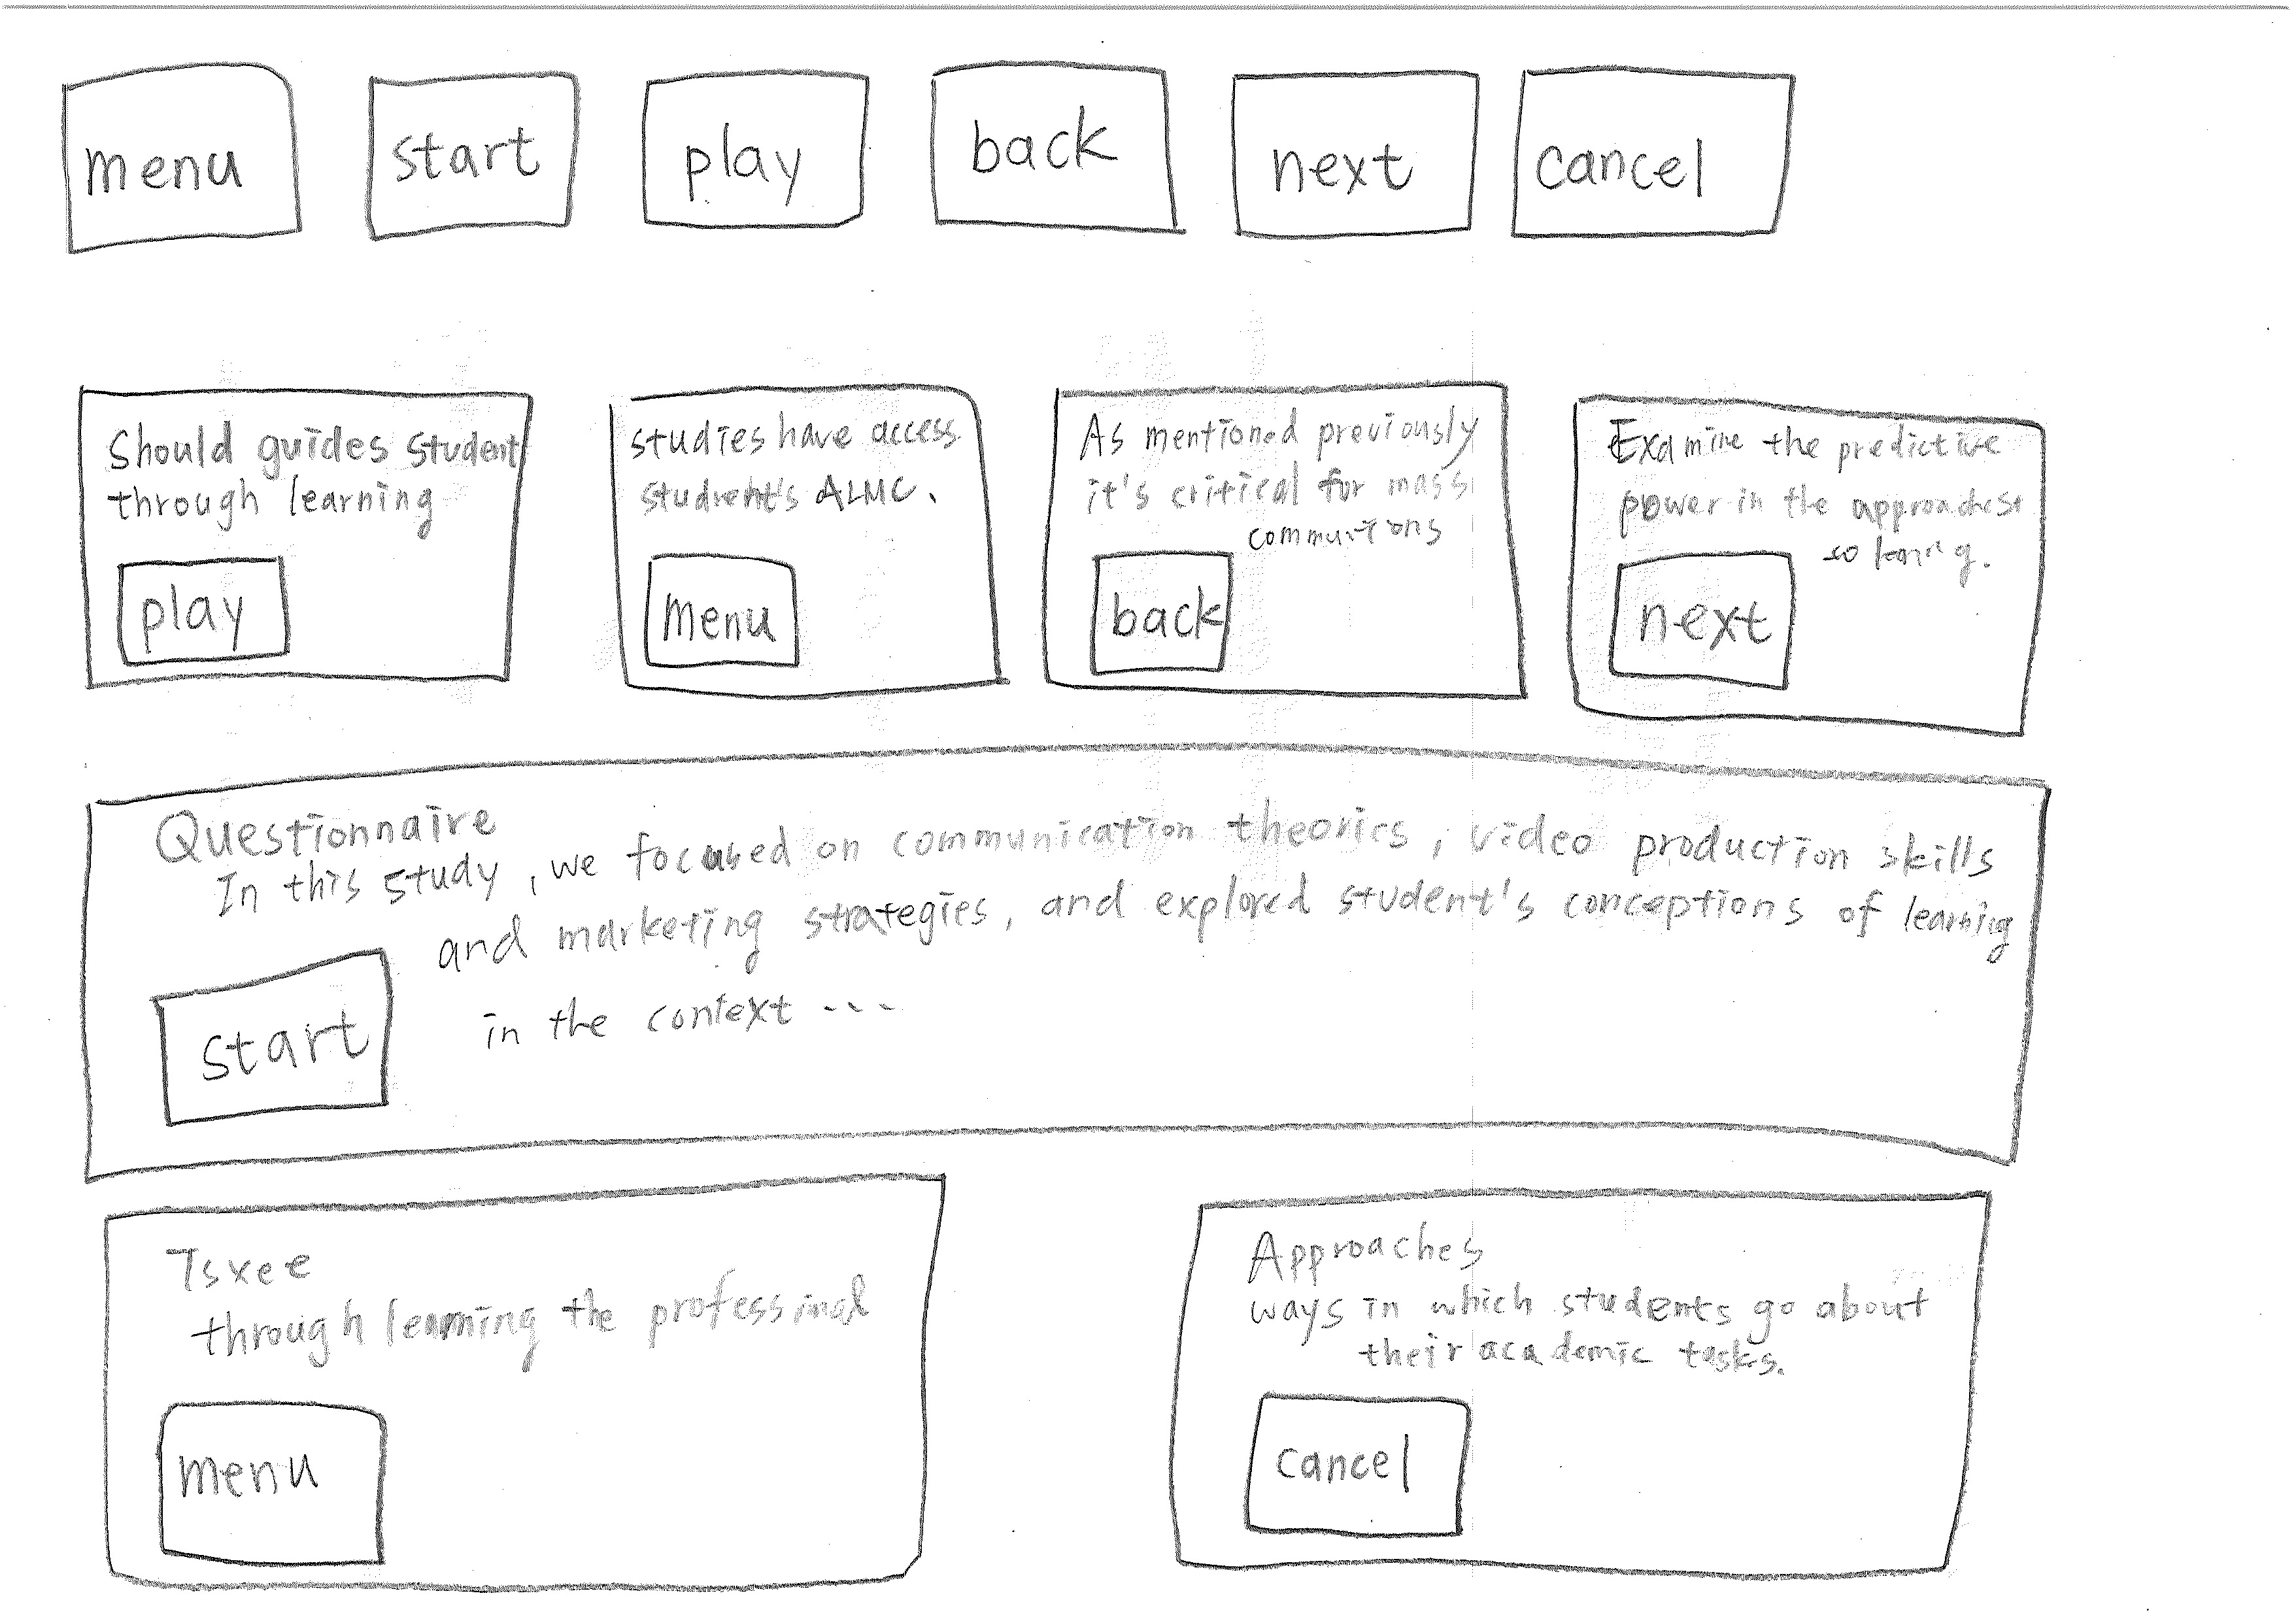back: (903, 51, 1200, 267), (98, 530, 319, 667), (1072, 535, 1240, 684)
cancel: (1484, 40, 1838, 270), (1224, 1375, 1487, 1549)
double: (61, 1158, 1012, 1612), (1133, 1163, 2031, 1603)
menu: (32, 40, 323, 274), (130, 1381, 398, 1581), (637, 537, 812, 686)
next: (1198, 40, 1487, 274), (1593, 544, 1805, 695)
play: (609, 39, 886, 272)
quadruple: (1030, 339, 1565, 712), (1545, 363, 2080, 737), (33, 349, 560, 725), (577, 342, 1016, 718)
row: (0, 723, 2296, 1202), (0, 1142, 2296, 1621), (0, 305, 2296, 760), (21, 0, 2287, 319)
single: (54, 723, 2100, 1203)
small-title: (167, 805, 526, 856), (1256, 1219, 1500, 1267), (156, 1226, 317, 1293)
start: (354, 46, 593, 275), (146, 942, 409, 1142)
text: (203, 842, 1996, 923), (446, 888, 931, 1053), (1252, 1275, 1922, 1381), (203, 1284, 875, 1370), (1593, 400, 1982, 535), (1079, 409, 1452, 540), (638, 400, 959, 533), (118, 426, 465, 533), (1787, 467, 2001, 595)
